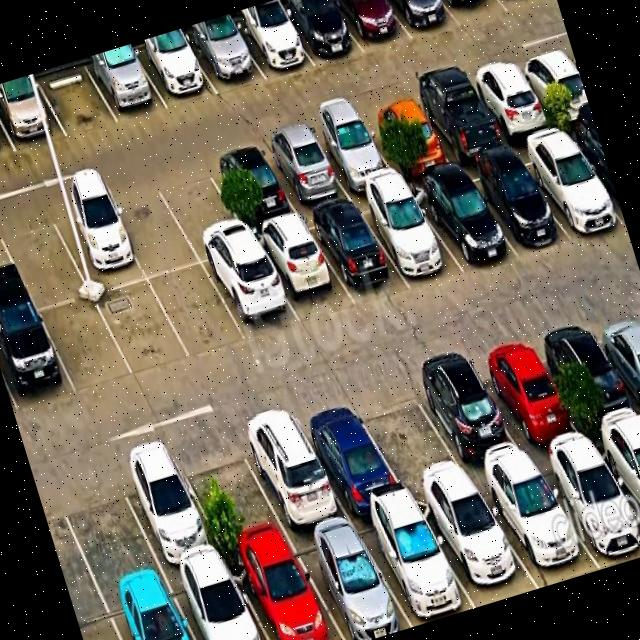empty: (170, 428, 289, 556), (50, 460, 162, 594), (348, 374, 471, 496), (152, 161, 253, 263), (103, 179, 200, 278), (94, 279, 191, 377), (148, 264, 247, 359), (39, 296, 133, 394), (0, 209, 90, 309), (35, 62, 118, 136)
occupied: (404, 353, 532, 482), (231, 404, 350, 536), (466, 335, 589, 462), (475, 464, 600, 587), (352, 501, 474, 627), (109, 443, 225, 573), (415, 485, 538, 607), (290, 392, 408, 517), (288, 522, 412, 640), (535, 315, 640, 440), (534, 446, 640, 569), (226, 540, 343, 640), (512, 133, 624, 237), (407, 172, 518, 273), (251, 218, 355, 325), (458, 155, 568, 255), (303, 202, 409, 305), (355, 187, 464, 285), (47, 193, 146, 294), (203, 249, 301, 341), (166, 558, 268, 640), (410, 80, 508, 165), (204, 145, 299, 231), (0, 307, 76, 413), (258, 129, 350, 212), (306, 115, 399, 195), (359, 98, 453, 176), (466, 63, 556, 142), (84, 49, 168, 122), (132, 37, 217, 109), (514, 48, 592, 125), (103, 576, 195, 640), (229, 10, 314, 79), (277, 0, 363, 66), (564, 123, 623, 217), (185, 24, 264, 93), (586, 302, 640, 402), (0, 76, 66, 152), (332, 0, 412, 53), (593, 427, 640, 515), (387, 0, 460, 39), (441, 0, 508, 28)
